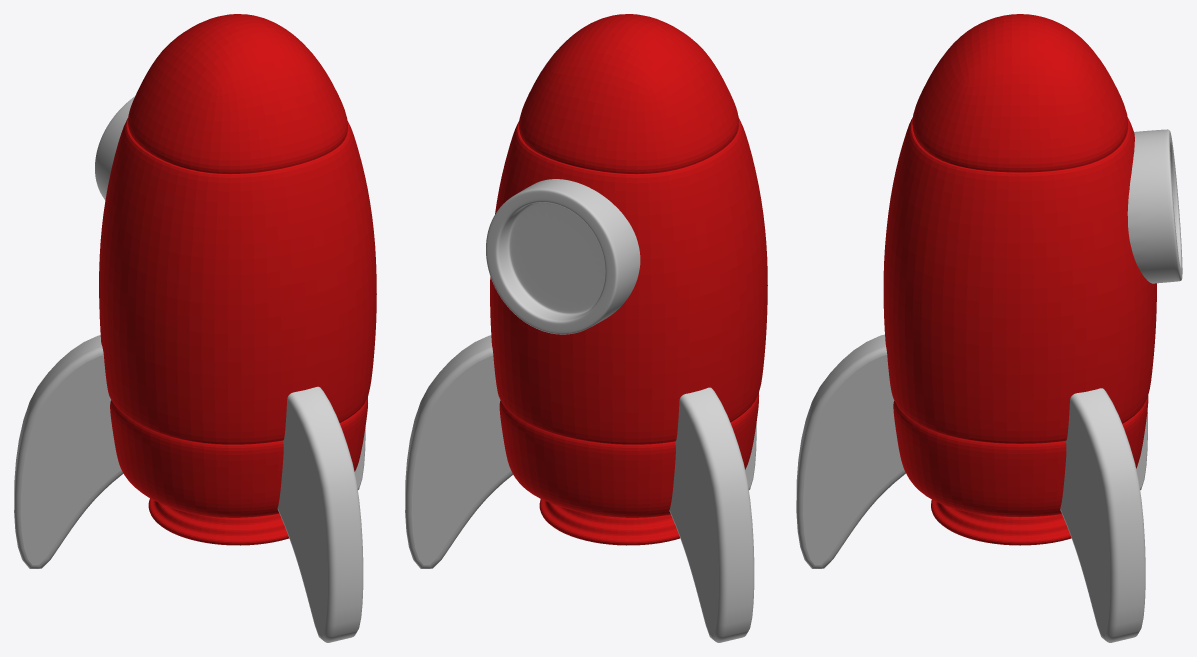
File: rocket.obj
The picture shows the model from 3 angles, left to right: view 1: azimuth 30°, elevation 25°; view 2: azimuth 150°, elevation 25°; view 3: azimuth 270°, elevation 25°; orthographic projection.
Visible parts, largest first — view 1: Cube, BezierCircle.001, BezierCircle, Cylinder; view 2: Cube, Cylinder, BezierCircle.002, BezierCircle.001; view 3: Cube, BezierCircle, BezierCircle.002, Cylinder.
Boxes of the visible parts, x1,y1,x2,y2 form: Cube: [99, 14, 376, 545]; BezierCircle.001: [14, 335, 123, 568]; BezierCircle: [277, 386, 363, 642]; Cylinder: [95, 96, 134, 199]; Cube: [490, 14, 767, 545]; Cylinder: [486, 179, 640, 334]; BezierCircle.002: [405, 335, 512, 568]; BezierCircle.001: [669, 387, 754, 642]; Cube: [883, 14, 1156, 545]; BezierCircle: [796, 334, 905, 568]; BezierCircle.002: [1060, 388, 1145, 642]; Cylinder: [1127, 129, 1182, 283].
Bounding box in the file's own units: 1.11 × 1.65 × 1.07.
